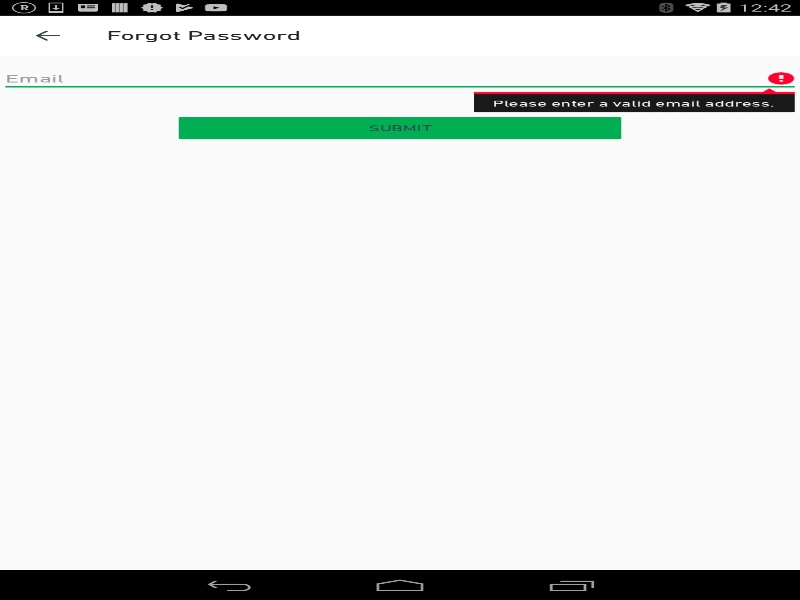Button: (173, 113, 626, 143), (10, 15, 85, 55)
Input: (0, 65, 800, 91)
